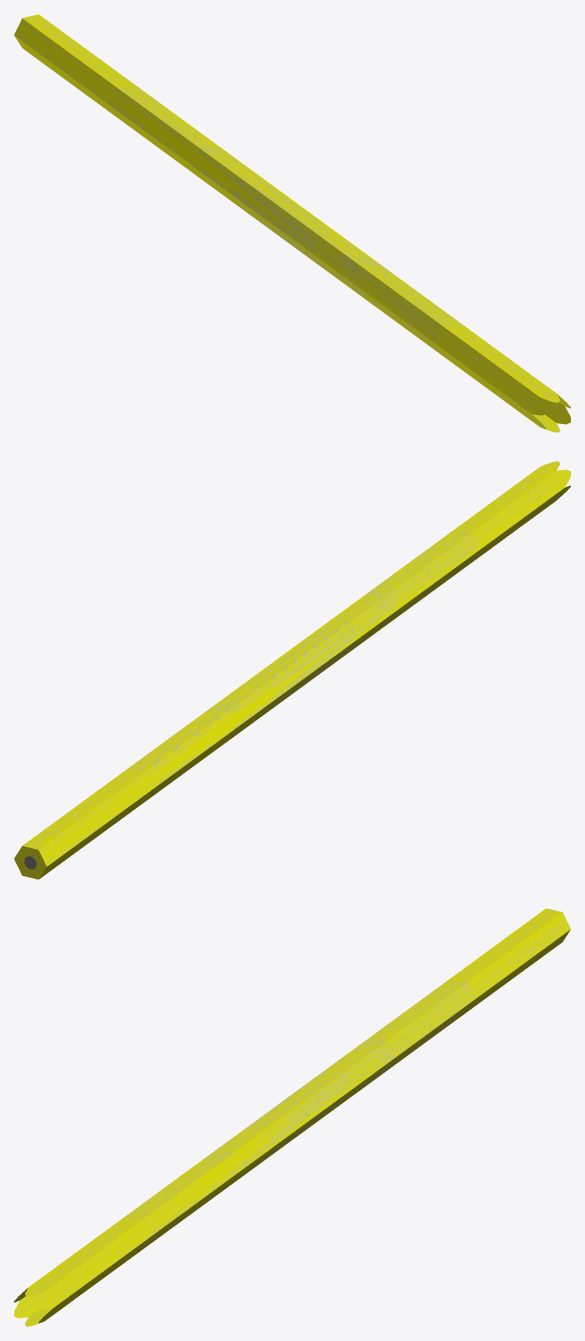
File: body.dae
3 views of the same model, one above another, from view 1: azimuth 30°, elevation 25°; view 2: azimuth 150°, elevation 25°; view 3: azimuth 330°, elevation 25° (orthographic).
Parts seen in each view (by area): view 1: group_0_002; view 2: group_0_002; view 3: group_0_002.
Boxes of the visible parts, box(x1,y1,x2,y2) form: group_0_002: box(14, 14, 570, 432); group_0_002: box(14, 461, 570, 879); group_0_002: box(14, 908, 570, 1326).
Size of the model in its own units: 0.00635 by 0.1764 by 0.0055.
